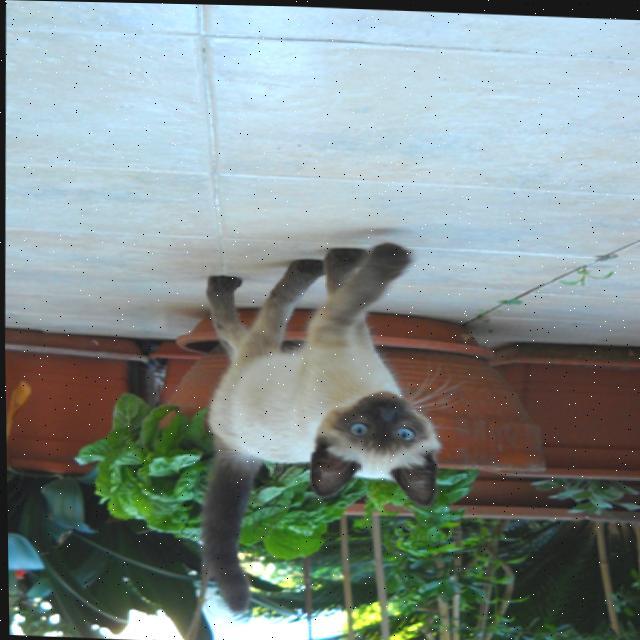Siamese: (187, 232, 450, 622)
